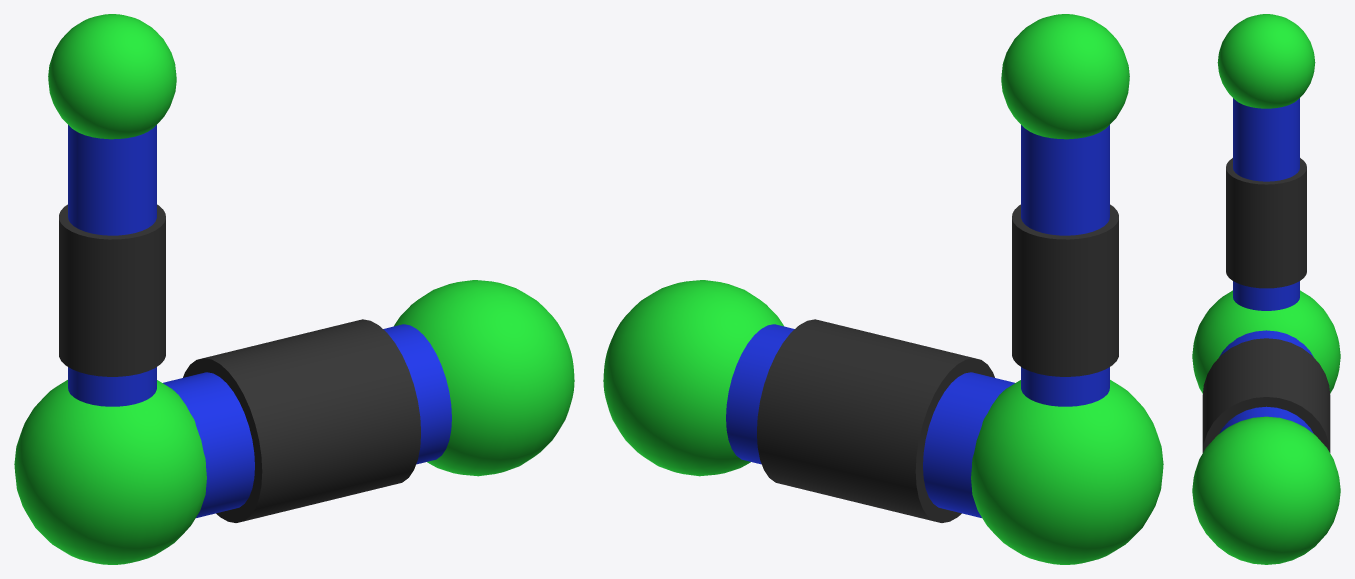
The model's file is arm.fbx.
3 renders of one model, left to right at view 1: azimuth 30°, elevation 25°; view 2: azimuth 150°, elevation 25°; view 3: azimuth 270°, elevation 25°, orthographic. The views are drawn at different scales.
Parts seen in each view (by area): view 1: Upper_Arm, Fore_Arm, Hand_Sphere; view 2: Upper_Arm, Fore_Arm, Hand_Sphere; view 3: Upper_Arm, Fore_Arm, Hand_Sphere.
Part boxes in pixels (<box>): Upper_Arm: <box>163,280,574,522</box>; Fore_Arm: <box>14,125,206,564</box>; Hand_Sphere: <box>48,14,176,139</box>; Upper_Arm: <box>603,280,1014,522</box>; Fore_Arm: <box>971,125,1163,564</box>; Hand_Sphere: <box>1001,14,1129,139</box>; Upper_Arm: <box>1192,330,1340,564</box>; Fore_Arm: <box>1192,98,1340,393</box>; Hand_Sphere: <box>1217,14,1315,108</box>.
Bounding box in the file's own units: 186 × 178 × 59.24.
